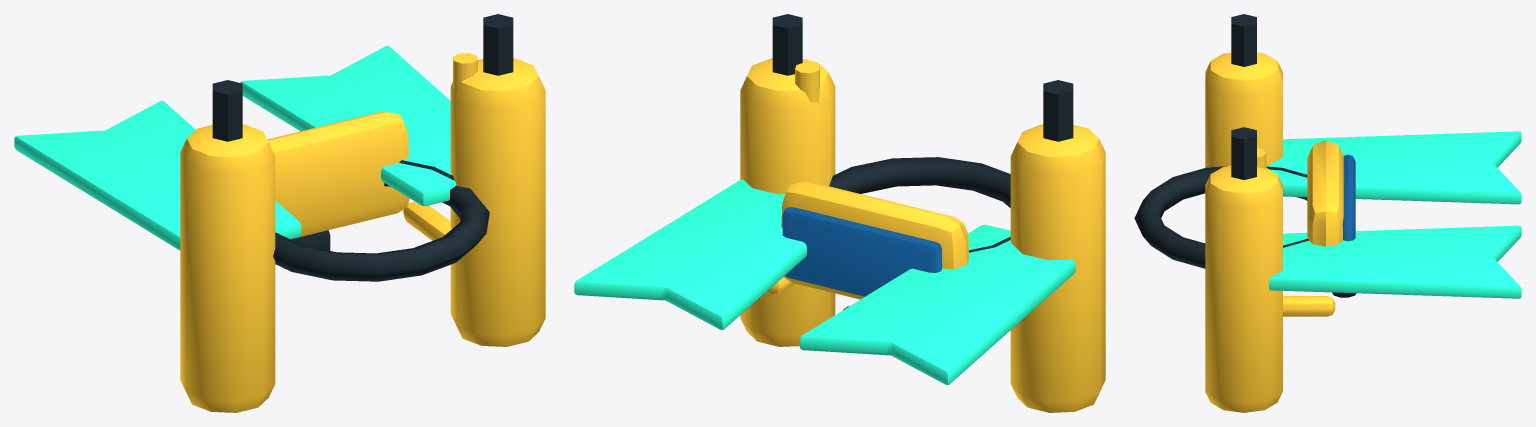
File: outfit_sea.glb
3 renders of one model, left to right at view 1: azimuth 30°, elevation 25°; view 2: azimuth 150°, elevation 25°; view 3: azimuth 270°, elevation 25°, orthographic. The views are drawn at different scales.
Visible parts, largest first — view 1: PackMesh, FeetMesh, HeadMesh; view 2: PackMesh, FeetMesh, HeadMesh; view 3: PackMesh, FeetMesh, HeadMesh.
Part boxes in pixels (x1,y1,x2,y2): PackMesh: (180,14,545,412); FeetMesh: (14,45,456,250); HeadMesh: (267,53,489,281); PackMesh: (740,14,1105,412); FeetMesh: (574,179,1075,384); HeadMesh: (766,62,1010,309); PackMesh: (1205,14,1282,412); FeetMesh: (1266,131,1521,298); HeadMesh: (1134,140,1356,316).
Size of the model in its own units: 0.9984 by 0.8 by 1.04.
